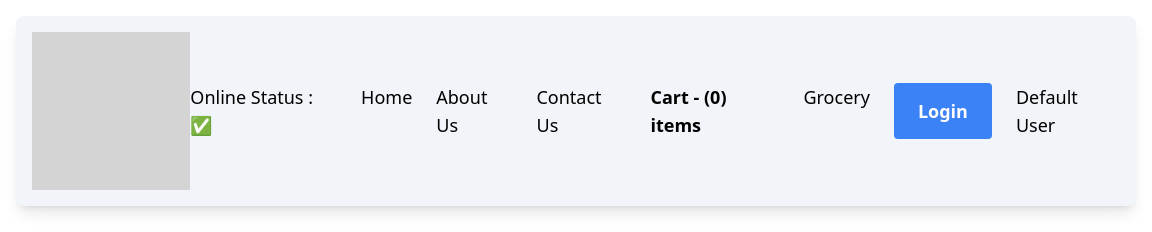
Test case: should change from Login Button to Logout Button on Click Event
Click the button "Login": x=943, y=111 [894, 83, 992, 139]
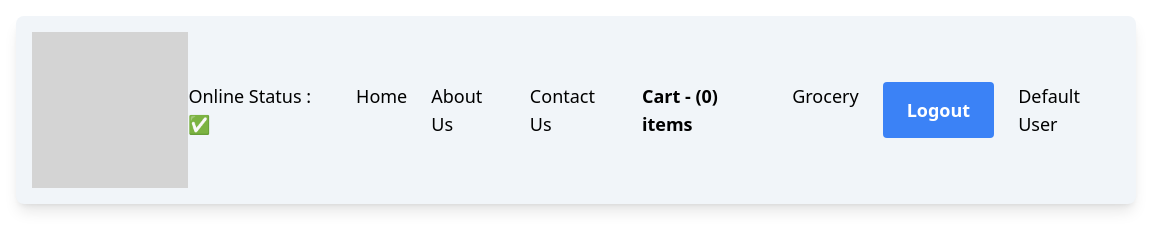
Now the button "Logout" is shown, box [883, 82, 994, 138]
